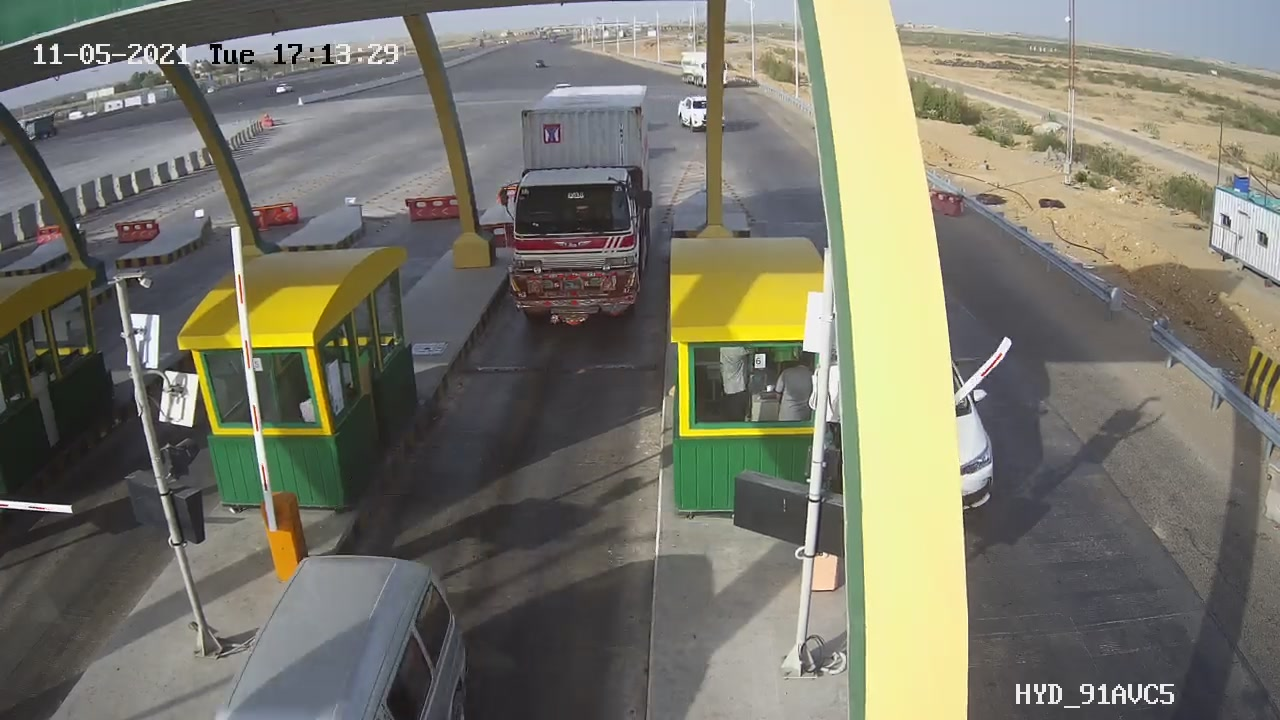F6: (485, 73, 673, 342)
